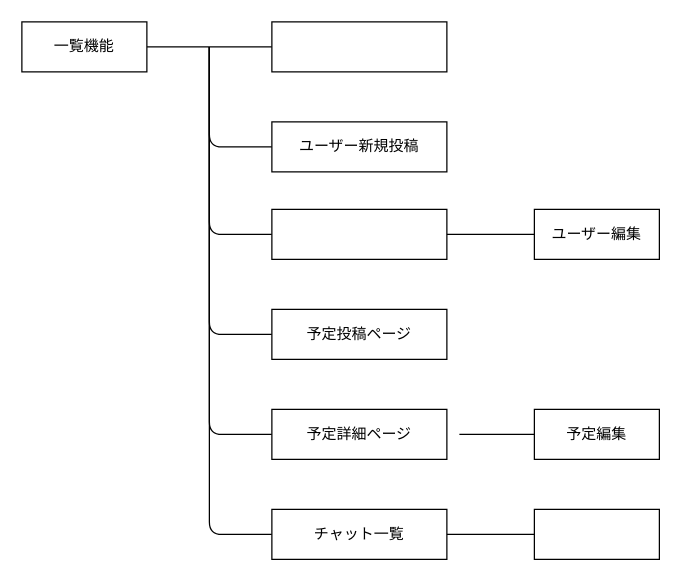
The diagram is 681 pixels wide and 581 high, and some of its shapes have lost their labels. The shapes that lost their labels are listed below. From the top down, each one's box as (x1, y1, x2, y2) in pixels, then its label:
(271, 21, 447, 72): ユーザーログイン
(271, 208, 447, 259): マイページ
(533, 508, 659, 559): チャットルーム
